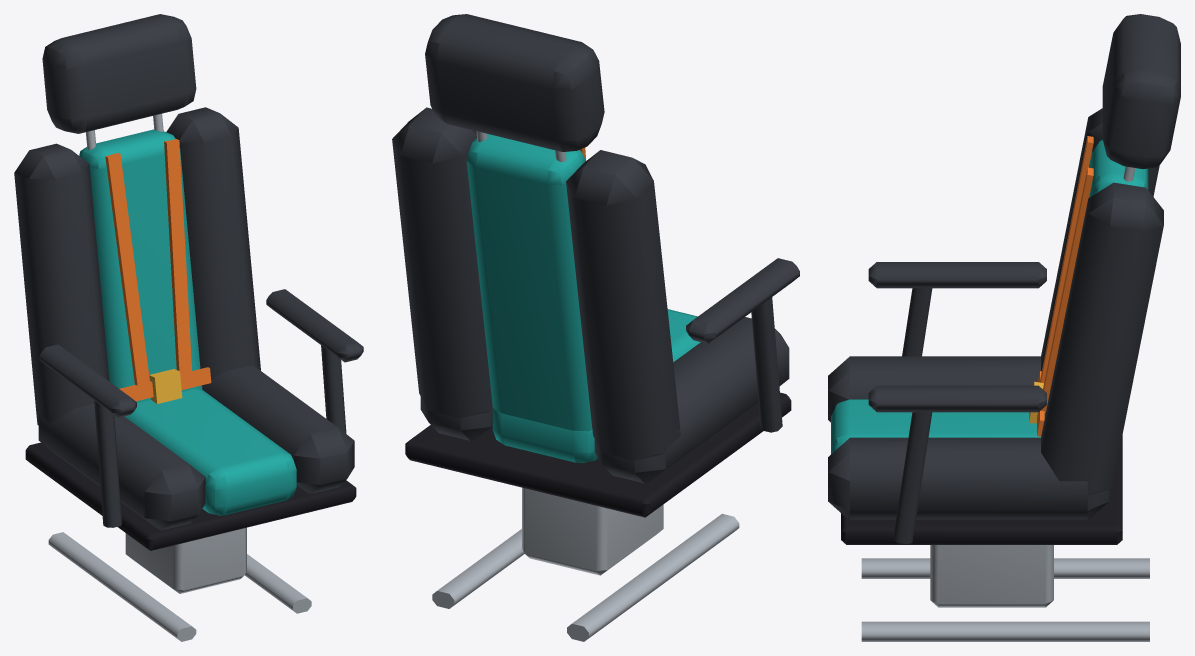
The model's file is AsientoPiloto.fbx.
3 renders of one model, left to right at view 1: azimuth 30°, elevation 25°; view 2: azimuth 150°, elevation 25°; view 3: azimuth 270°, elevation 25°, orthographic. The views are drawn at different scales.
Parts seen in each view (by area): view 1: AsientoPiloto; view 2: AsientoPiloto; view 3: AsientoPiloto.
Part boxes in pixels (x1,y1,x2,y2): AsientoPiloto: (14,14,363,641); AsientoPiloto: (392,14,799,641); AsientoPiloto: (828,14,1180,641).
Bounding box in the file's own units: 2.4 × 4.6 × 2.6.
Materials: 1 (1 with a texture image).
